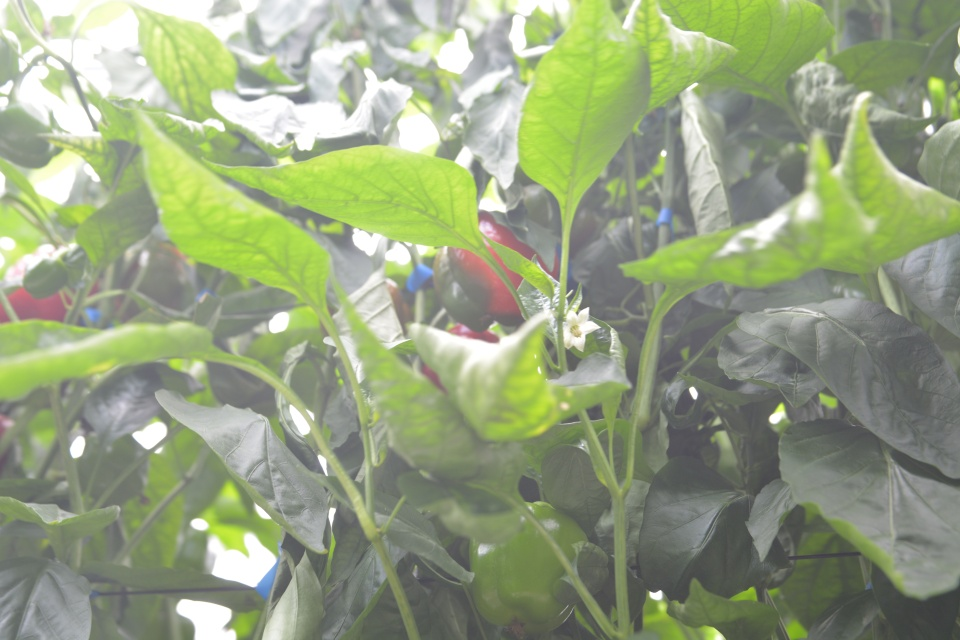flower: (561, 306, 603, 353)
fruit: (468, 498, 590, 640), (430, 205, 560, 334), (0, 100, 68, 170), (0, 278, 100, 322)
